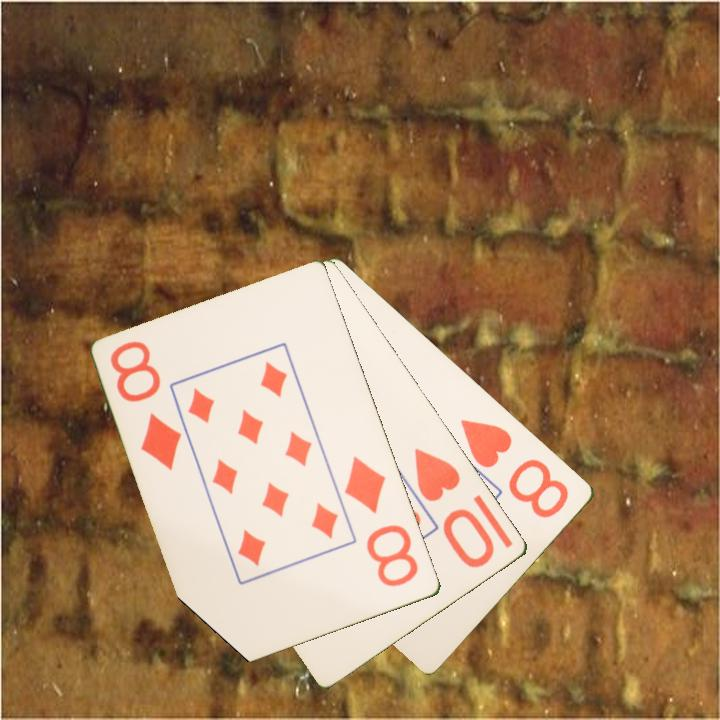10h: (411, 444, 498, 572)
8d: (341, 452, 422, 590), (107, 337, 185, 474)
8h: (457, 415, 573, 522)
